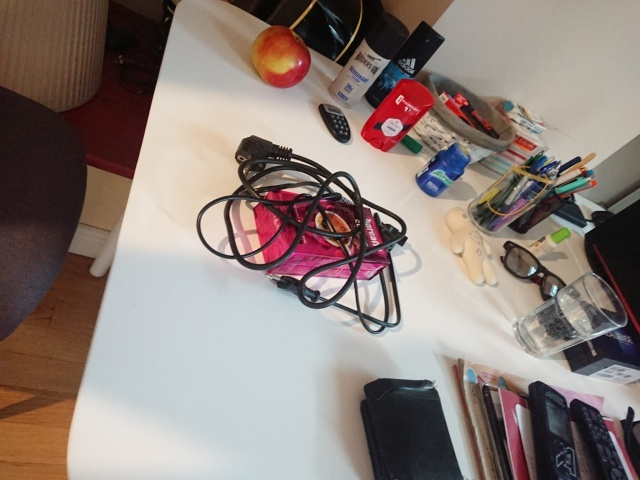Barcaffe Classic Original 225g: (251, 188, 392, 283)
